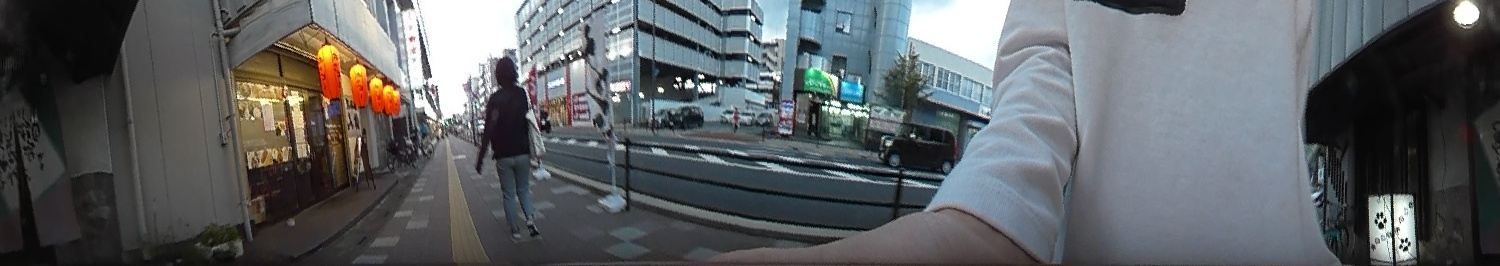person: (466, 53, 553, 244)
